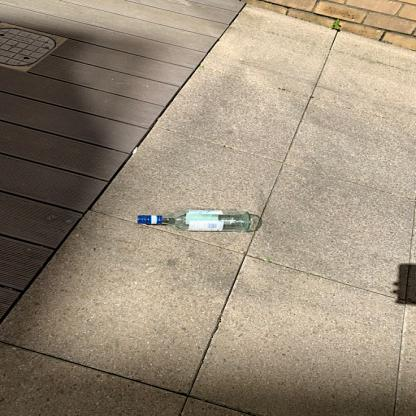trash: (134, 206, 256, 234)
